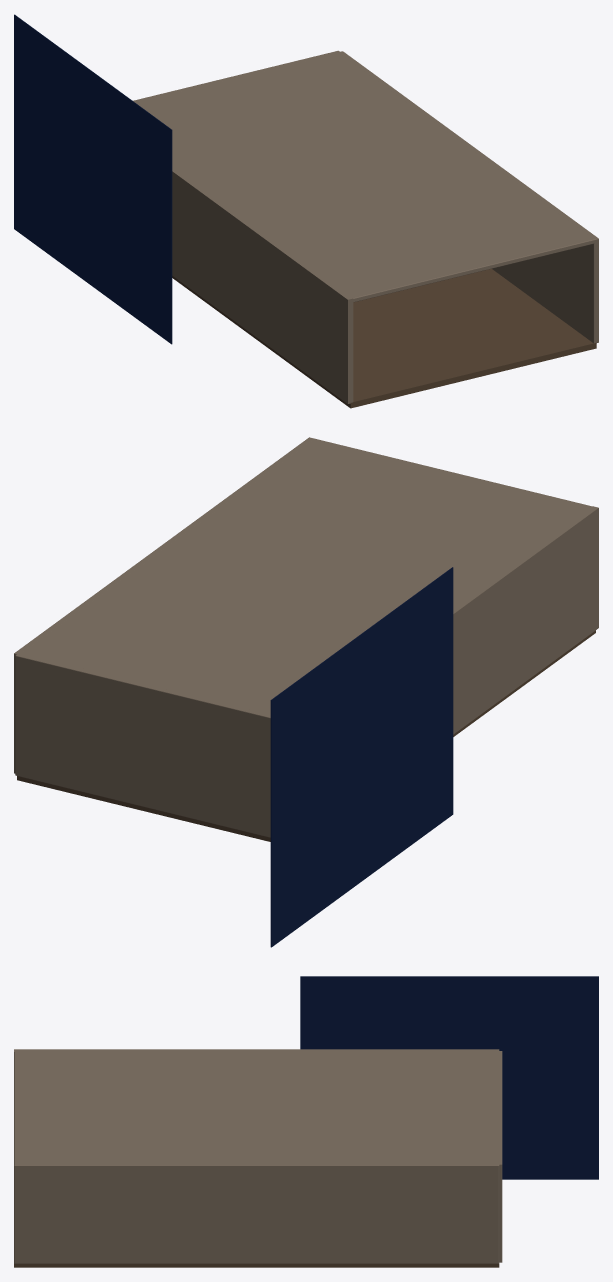
File: room-refined.glb
3 views of the same model, one above another, from view 1: azimuth 30°, elevation 25°; view 2: azimuth 150°, elevation 25°; view 3: azimuth 270°, elevation 25° (orthographic). The views are drawn at different scales.
Parts seen in each view (by area): view 1: Room_Ceiling, Left_Window_Night_Sky, Room_Floor, Room_Left_Wall, Room_Right_Wall, Room_Back_Wall; view 2: Room_Ceiling, Left_Window_Night_Sky, Room_Back_Wall, Room_Left_Wall, Room_Right_Wall, Room_Floor; view 3: Room_Ceiling, Room_Right_Wall, Left_Window_Night_Sky, Room_Floor, Room_Left_Wall, Room_Back_Wall.
Boxes of the visible parts, box(x1,y1,x2,y2) form: Room_Ceiling: box(135, 53, 595, 302); Left_Window_Night_Sky: box(14, 14, 172, 344); Room_Floor: box(172, 269, 596, 408); Room_Left_Wall: box(172, 166, 353, 403); Room_Right_Wall: box(338, 51, 598, 343); Room_Back_Wall: box(133, 50, 339, 102); Room_Ceiling: box(21, 438, 591, 714); Left_Window_Night_Sky: box(270, 567, 453, 947); Room_Back_Wall: box(15, 653, 270, 837); Room_Left_Wall: box(453, 506, 598, 734); Room_Right_Wall: box(14, 437, 313, 773); Room_Floor: box(17, 630, 595, 841); Room_Ceiling: box(14, 1052, 496, 1163); Room_Right_Wall: box(14, 1163, 499, 1263); Left_Window_Night_Sky: box(300, 976, 598, 1179); Room_Floor: box(14, 1264, 499, 1267); Room_Left_Wall: box(14, 1049, 499, 1051); Room_Back_Wall: box(497, 1051, 502, 1262).
Bounding box in the file's own units: 8.09 × 6 × 15.67.
